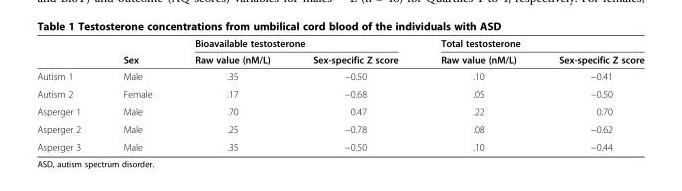table: (36, 37, 643, 152)
table column: (290, 37, 418, 152), (172, 37, 290, 152), (418, 37, 536, 152), (536, 37, 643, 152), (101, 37, 172, 152), (36, 37, 101, 152)
table column header: (36, 37, 643, 67)
table row: (36, 84, 643, 102), (36, 119, 643, 137), (36, 67, 643, 84), (36, 102, 643, 119), (36, 51, 643, 67), (36, 137, 643, 152), (36, 37, 643, 51)
table spanning cell: (172, 37, 418, 51), (418, 37, 643, 51), (101, 37, 172, 67)
